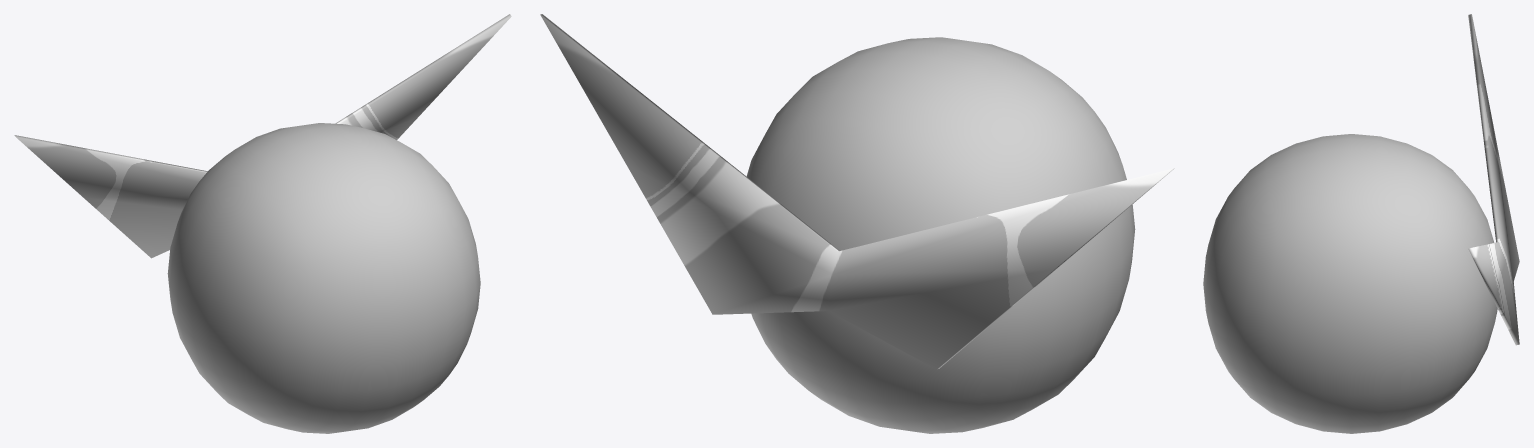
File: AngryBoid2.fbx
3 views of the same model, side by side, from view 1: azimuth 30°, elevation 25°; view 2: azimuth 150°, elevation 25°; view 3: azimuth 270°, elevation 25° (orthographic). The views are drawn at different scales.
Visible parts, largest first — view 1: Boid_V3; view 2: Boid_V3; view 3: Boid_V3.
Part boxes in pixels (<box>): Boid_V3: <box>14,14,511,433</box>; Boid_V3: <box>540,14,1174,433</box>; Boid_V3: <box>1203,14,1519,433</box>.
Bounding box in the file's own units: 423 × 242 × 242.
Materials: 1 (1 with a texture image).
